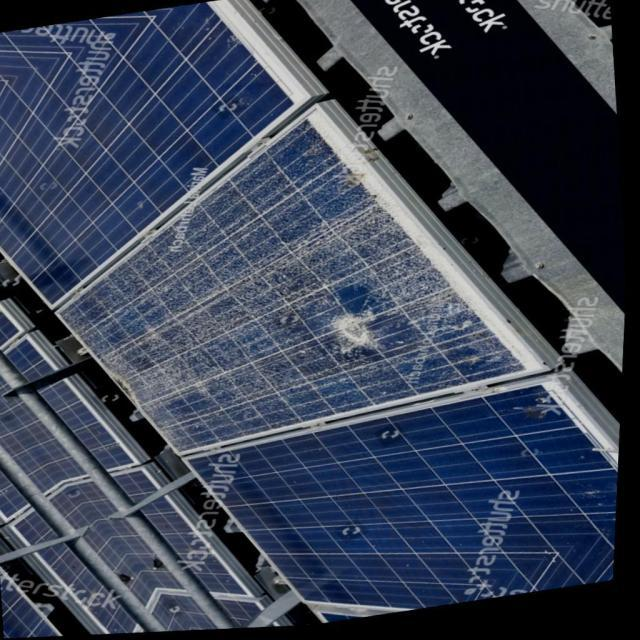cracked: (62, 101, 540, 436)
soiled: (504, 381, 626, 620)
